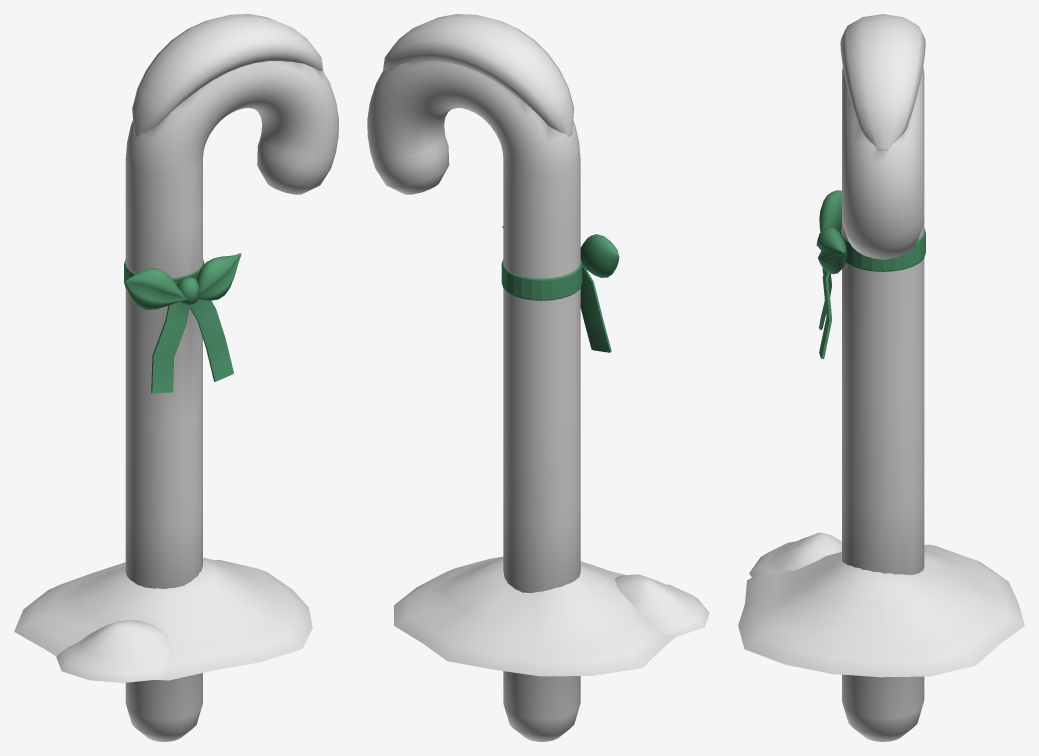
The model's file is cane.glb.
The picture shows the model from 3 angles, left to right: view 1: azimuth 30°, elevation 25°; view 2: azimuth 150°, elevation 25°; view 3: azimuth 270°, elevation 25°; orthographic projection. The views are drawn at different scales.
Parts seen in each view (by area): view 1: cane_candy, cane_snow, cane_ribbon; view 2: cane_candy, cane_snow, cane_ribbon; view 3: cane_candy, cane_snow, cane_ribbon.
Part boxes in pixels (bbox=[...]): cane_candy: bbox=[125, 61, 338, 741]; cane_snow: bbox=[14, 14, 323, 682]; cane_ribbon: bbox=[124, 253, 241, 393]; cane_candy: bbox=[367, 61, 580, 741]; cane_snow: bbox=[383, 14, 709, 676]; cane_ribbon: bbox=[501, 226, 619, 352]; cane_candy: bbox=[842, 66, 924, 741]; cane_snow: bbox=[738, 14, 1024, 677]; cane_ribbon: bbox=[816, 190, 925, 358].
Bounding box in the file's own units: 2.44 × 5.41 × 1.88.
